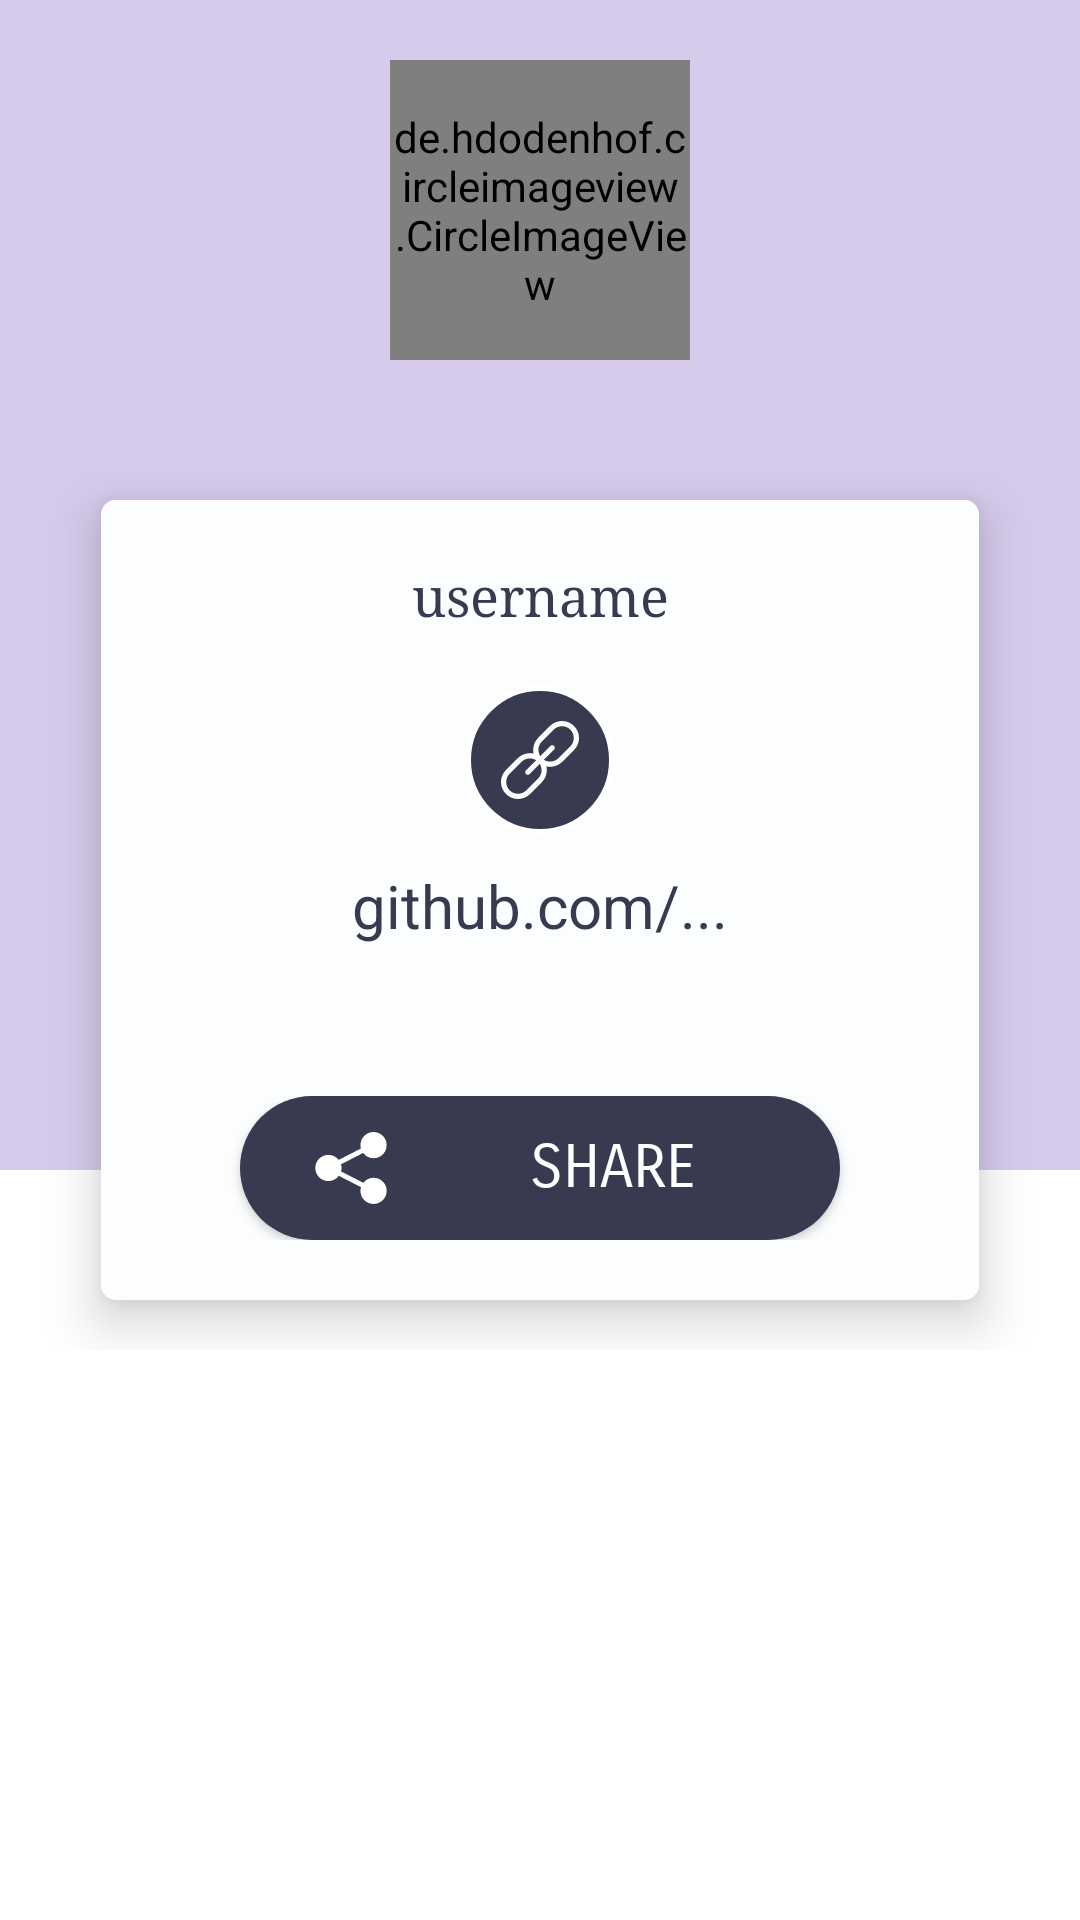

Icon click points for this 1080px×1920px phone screenshot, format (x=x, y=y):
link: (x=540, y=760)
